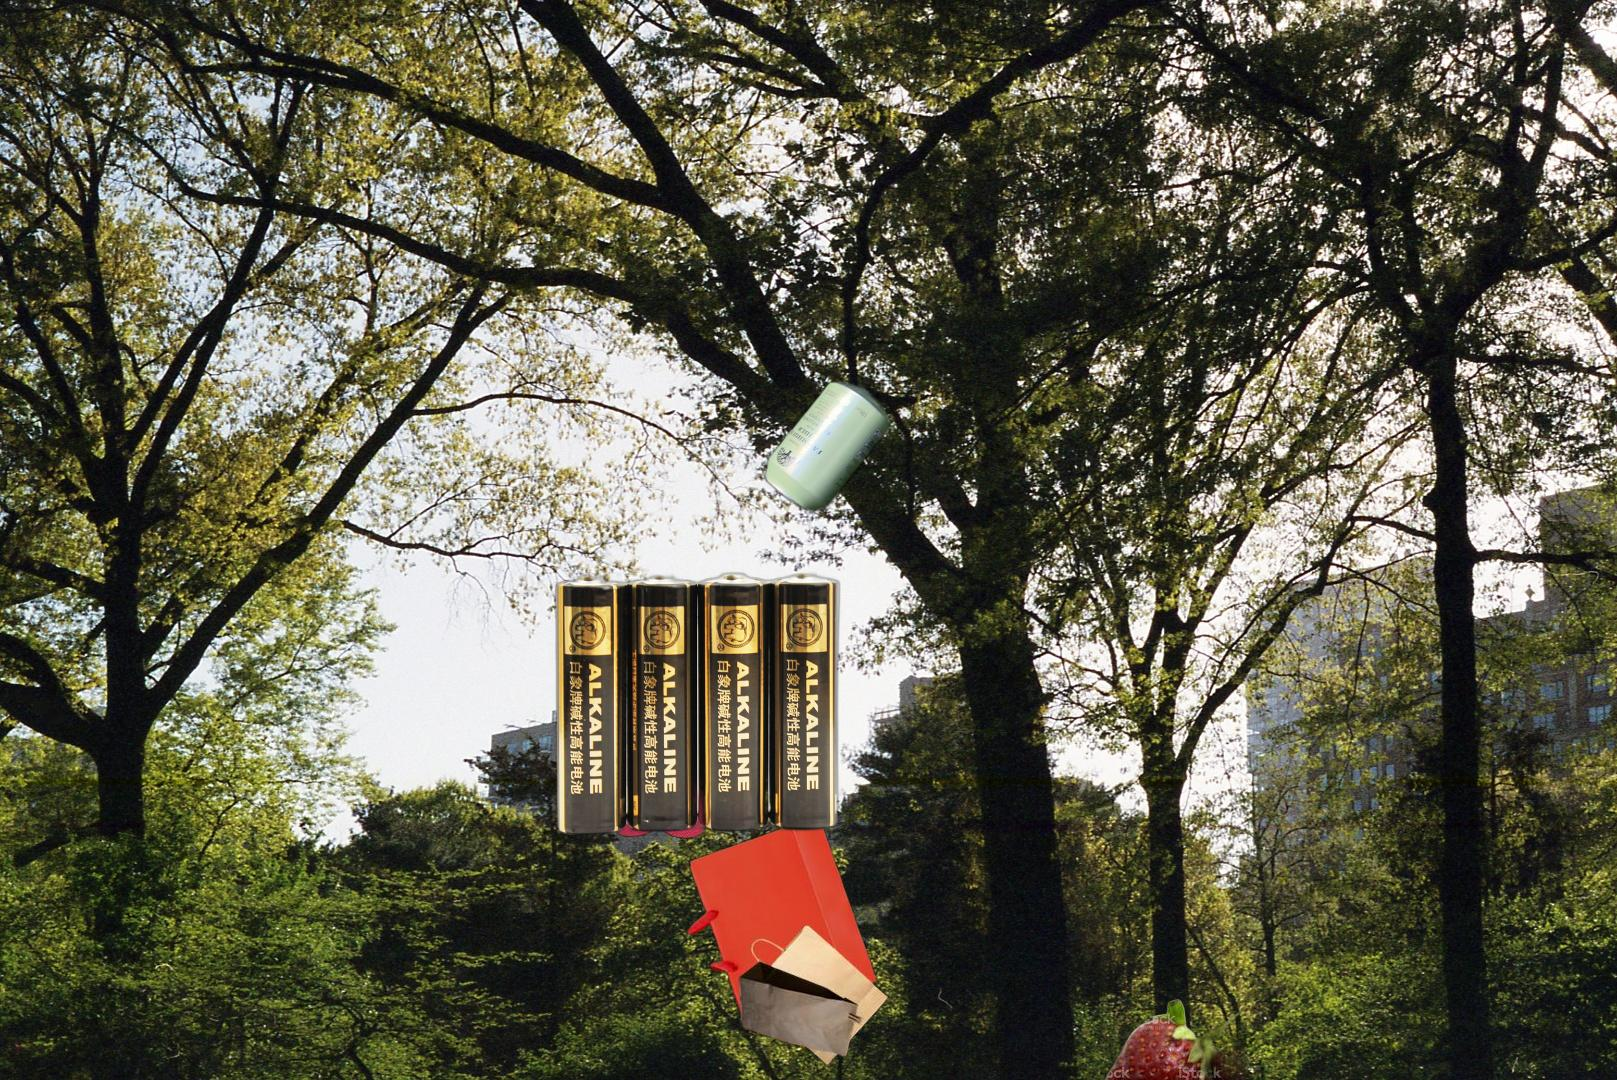battery: (552, 570, 843, 839)
biological: (1101, 996, 1246, 1080)
metal-cans: (440, 374, 898, 726)
paper-bag: (684, 812, 890, 1068)
shoes: (589, 669, 730, 841)
